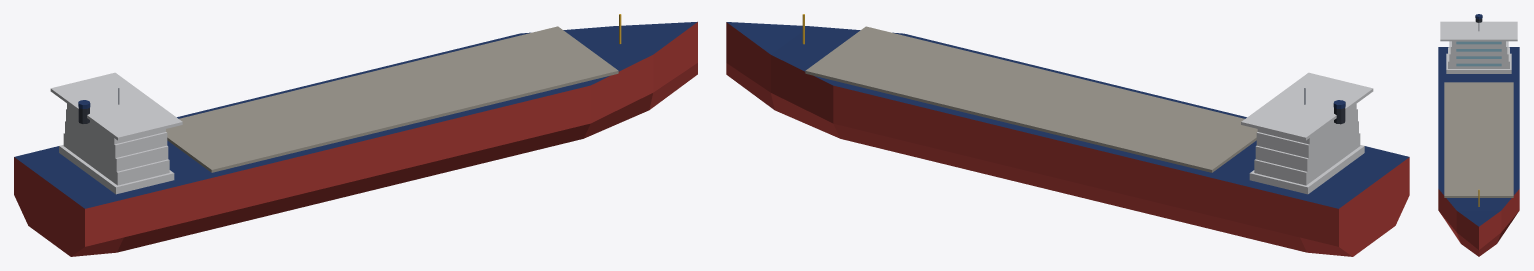
File: ship_panamax.glb
The picture shows the model from 3 angles, left to right: view 1: azimuth 30°, elevation 25°; view 2: azimuth 150°, elevation 25°; view 3: azimuth 270°, elevation 25°; orthographic projection. The views are drawn at different scales.
Parts seen in each view (by area): view 1: ship_panamax; view 2: ship_panamax; view 3: ship_panamax.
Boxes of the visible parts, x1=… form: ship_panamax: x1=14, y1=14, x2=697, y2=256; ship_panamax: x1=726, y1=14, x2=1409, y2=256; ship_panamax: x1=1438, y1=14, x2=1519, y2=256.
Size of the model in its own units: 58 by 11.65 by 11.
